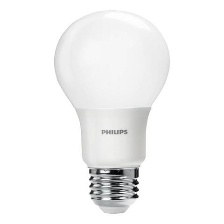light_bulb: (51, 6, 173, 215)
